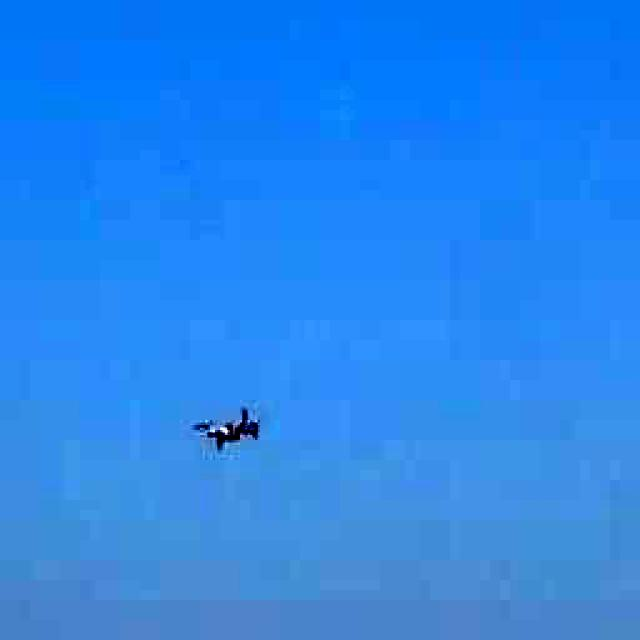bird: (174, 382, 286, 472)
